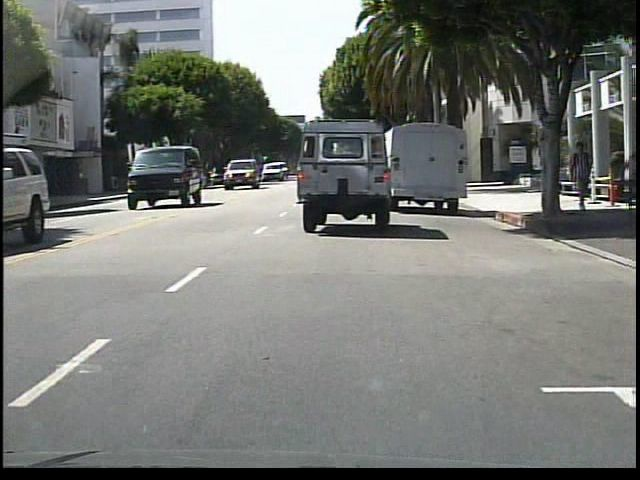person: (571, 137, 596, 213)
